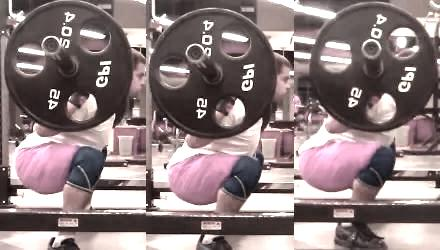Barbell: (357, 37, 382, 61)
